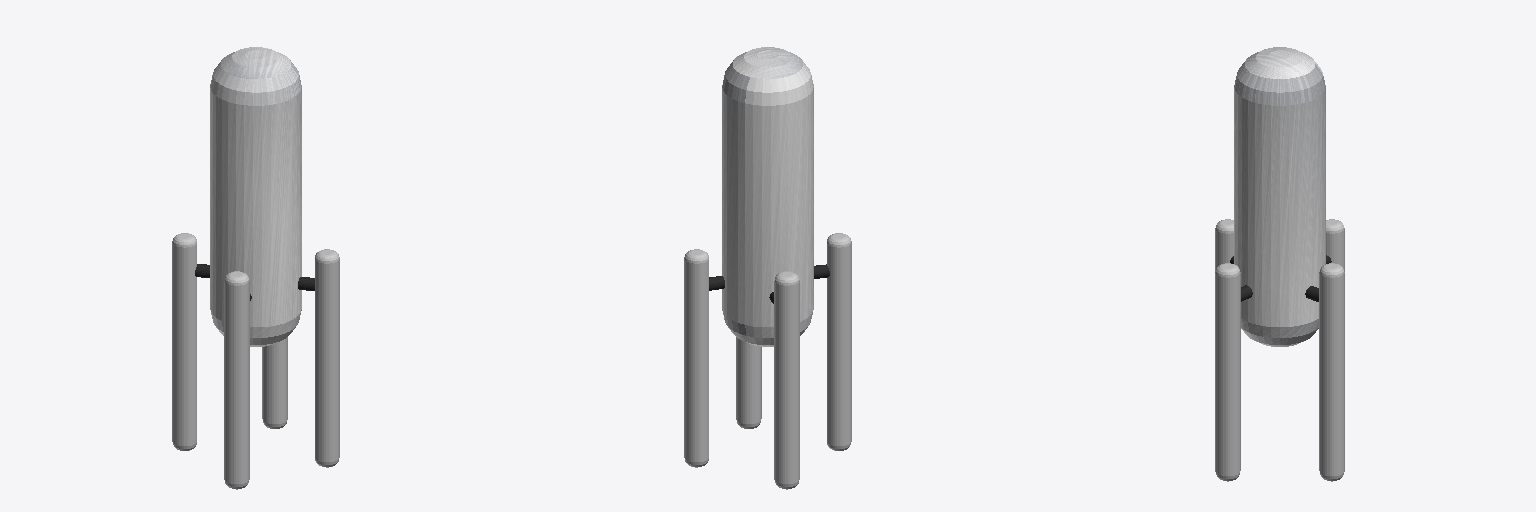
3 renders of one model, left to right at view 1: azimuth 30°, elevation 25°; view 2: azimuth 150°, elevation 25°; view 3: azimuth 270°, elevation 25°, orthographic.
Parts seen in each view (by area): view 1: Цилиндр.004, Цилиндр.001, Цилиндр, Цилиндр.002, Цилиндр.003; view 2: Цилиндр.004, Цилиндр.002, Цилиндр.003, Цилиндр.001, Цилиндр; view 3: Цилиндр.004, Цилиндр, Цилиндр.003, Цилиндр.001, Цилиндр.002.
Boxes of the visible parts, x1=… form: Цилиндр.004: x1=210, y1=47, x2=301, y2=346; Цилиндр.001: x1=224, y1=271, x2=249, y2=489; Цилиндр: x1=315, y1=249, x2=339, y2=467; Цилиндр.002: x1=172, y1=233, x2=196, y2=450; Цилиндр.003: x1=262, y1=337, x2=287, y2=428; Цилиндр.004: x1=722, y1=47, x2=813, y2=346; Цилиндр.002: x1=774, y1=271, x2=799, y2=489; Цилиндр.003: x1=684, y1=249, x2=708, y2=467; Цилиндр.001: x1=827, y1=233, x2=851, y2=450; Цилиндр: x1=736, y1=337, x2=761, y2=428; Цилиндр.004: x1=1234, y1=47, x2=1325, y2=346; Цилиндр: x1=1215, y1=263, x2=1240, y2=481; Цилиндр.003: x1=1319, y1=263, x2=1344, y2=481; Цилиндр.001: x1=1215, y1=219, x2=1233, y2=271; Цилиндр.002: x1=1326, y1=219, x2=1344, y2=271.
Size of the model in its own units: 3.73 by 12.8 by 3.73.
3 materials, 1 textured.